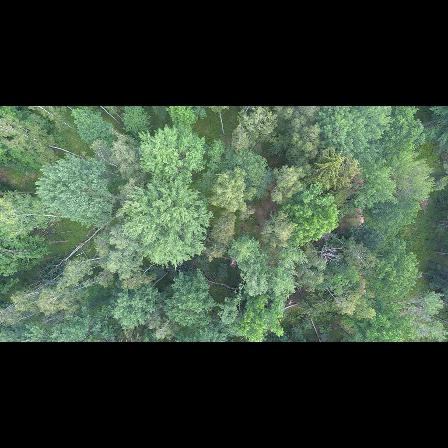Dead: (309, 242, 346, 263)
